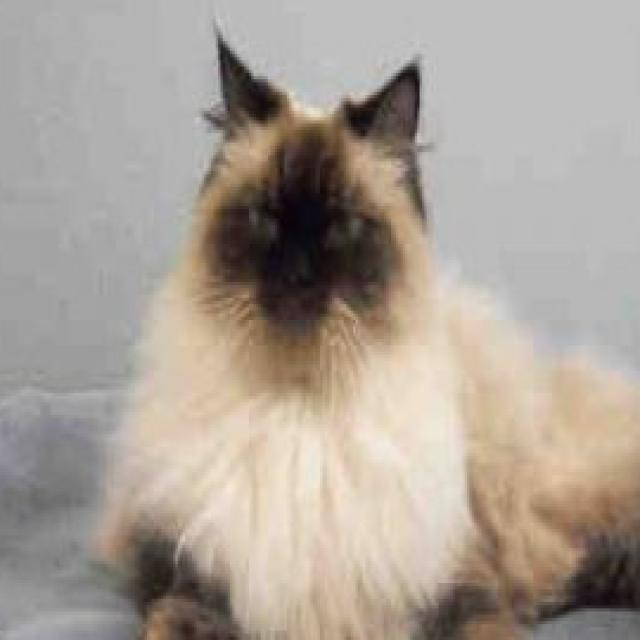Birman: (99, 16, 640, 640)
